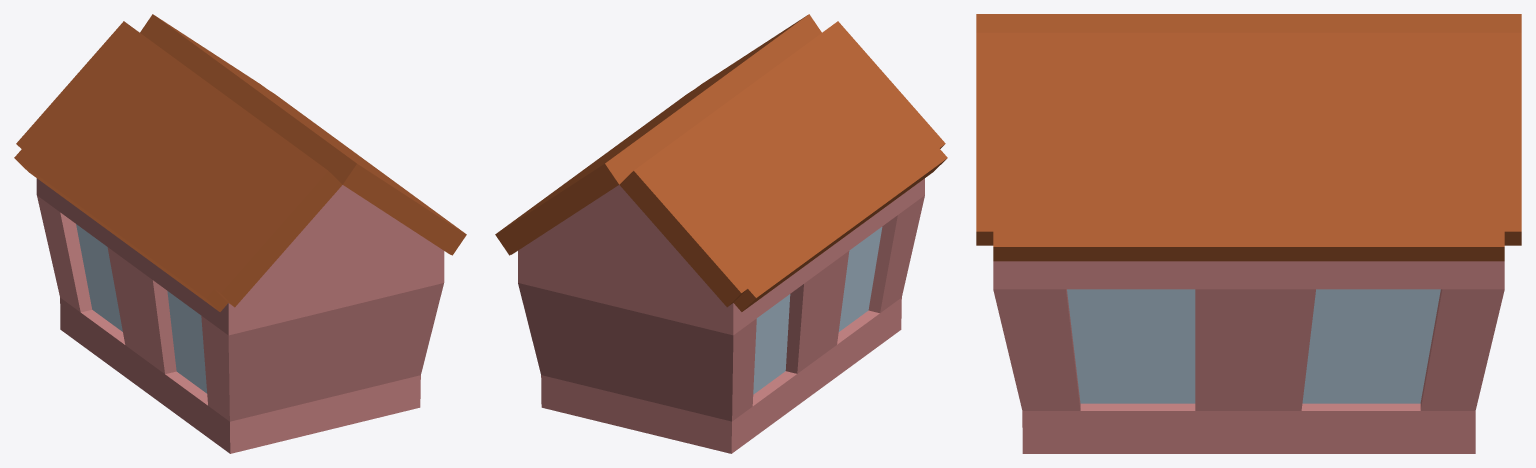
File: home-test.fbx
3 views of the same model, side by side, from view 1: azimuth 30°, elevation 25°; view 2: azimuth 150°, elevation 25°; view 3: azimuth 270°, elevation 25° (orthographic). The views are drawn at different scales.
Parts seen in each view (by area): view 1: Cube; view 2: Cube; view 3: Cube.
Part boxes in pixels (bbox=[...]): Cube: bbox=[14, 14, 466, 453]; Cube: bbox=[495, 14, 947, 453]; Cube: bbox=[976, 14, 1521, 453].
Size of the model in its own units: 5.94 by 6.01 by 8.06.
